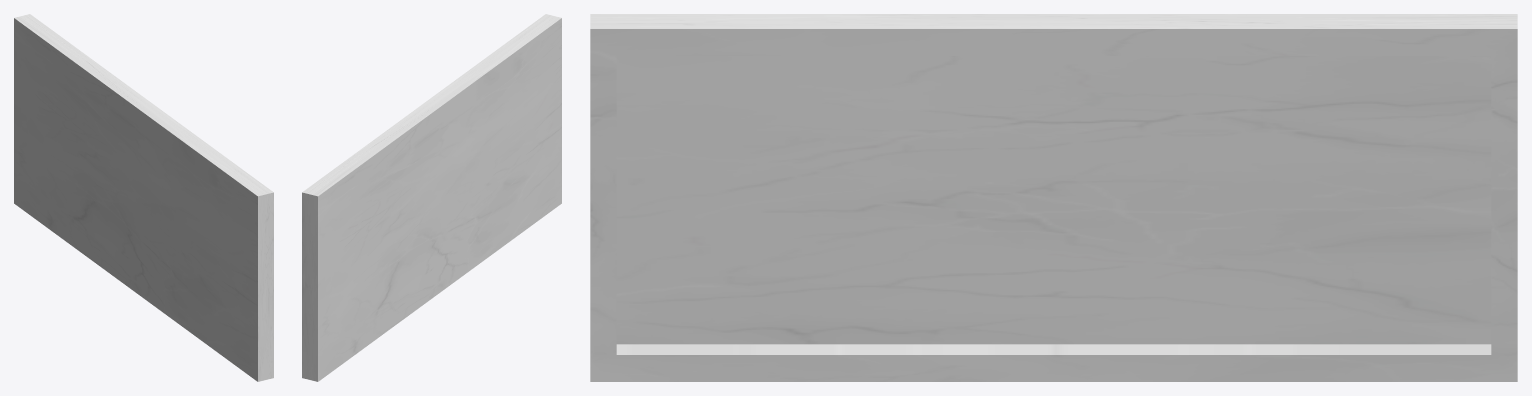
Rendered from 2b264b52-0e0b-4ab7-b9ba-f4f391fce39a.glb.
The picture shows the model from 3 angles, left to right: view 1: azimuth 30°, elevation 25°; view 2: azimuth 150°, elevation 25°; view 3: azimuth 270°, elevation 25°; orthographic projection. The views are drawn at different scales.
Visible parts, largest first — view 1: Cube; view 2: Cube; view 3: Cube.
Boxes of the visible parts, left/top/right/bottom form: Cube: left=14, top=14, right=273, bottom=381; Cube: left=302, top=14, right=561, bottom=381; Cube: left=590, top=14, right=1517, bottom=381.
Bounding box in the file's own units: 0.9425 × 10.37 × 24.7.
1 material, 1 textured.
